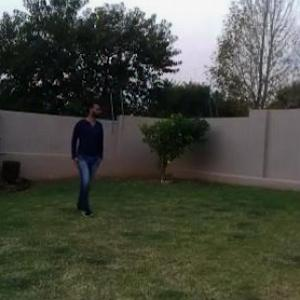follow: (66, 92, 112, 226)
